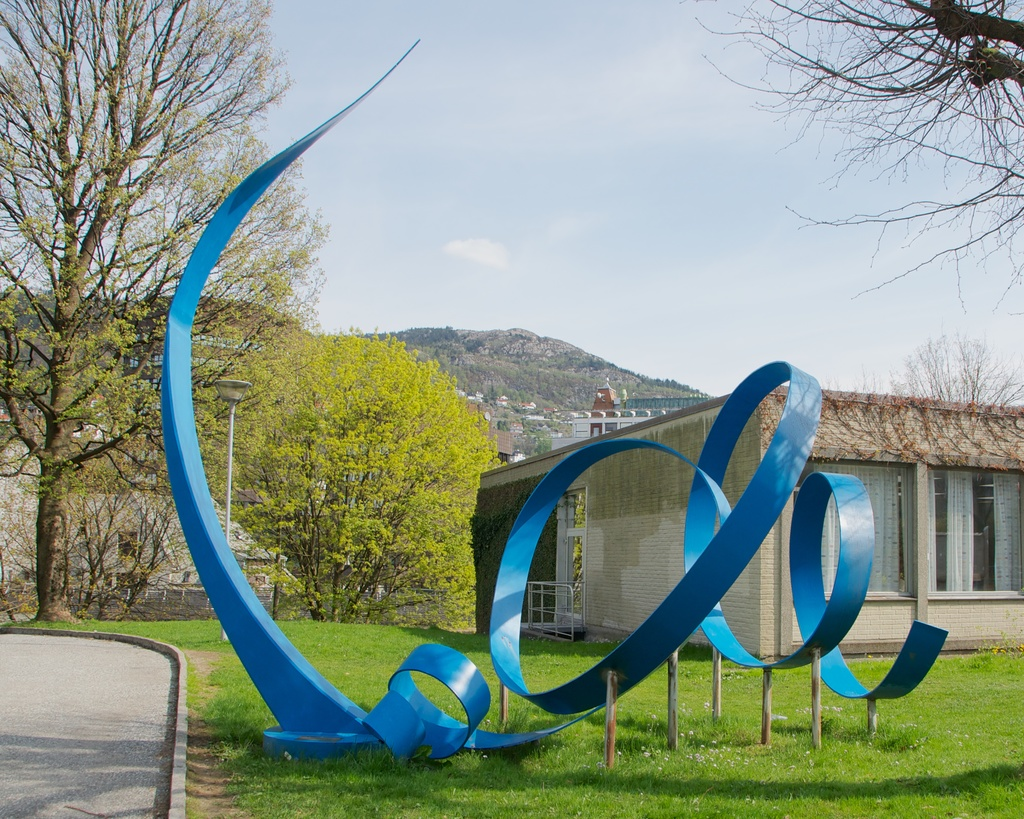Tree: (0, 0, 507, 630), (690, 0, 1024, 313), (887, 332, 1024, 405)
